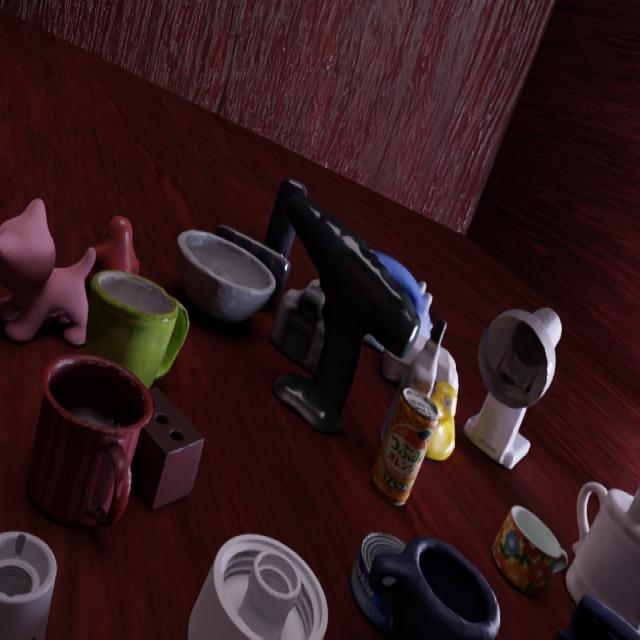Other Objects: (274, 193, 419, 432), (27, 355, 153, 527), (28, 353, 152, 527), (0, 199, 139, 344), (464, 308, 561, 468), (188, 533, 328, 639), (369, 539, 499, 639), (565, 481, 639, 629), (177, 229, 275, 321), (371, 388, 438, 505), (375, 251, 432, 381), (491, 505, 568, 593), (0, 531, 56, 639), (214, 225, 290, 301), (350, 533, 403, 631), (371, 251, 429, 336), (271, 280, 324, 371), (426, 348, 458, 460), (559, 596, 639, 639), (264, 179, 306, 257), (94, 216, 139, 273), (401, 339, 441, 396), (430, 320, 446, 343)
